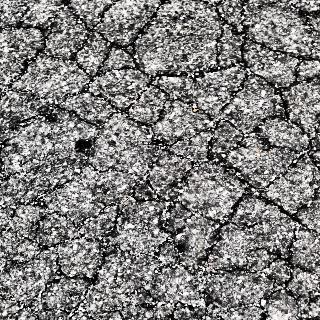alligator-crack: (9, 0, 320, 150), (140, 153, 320, 320), (0, 175, 134, 282)
